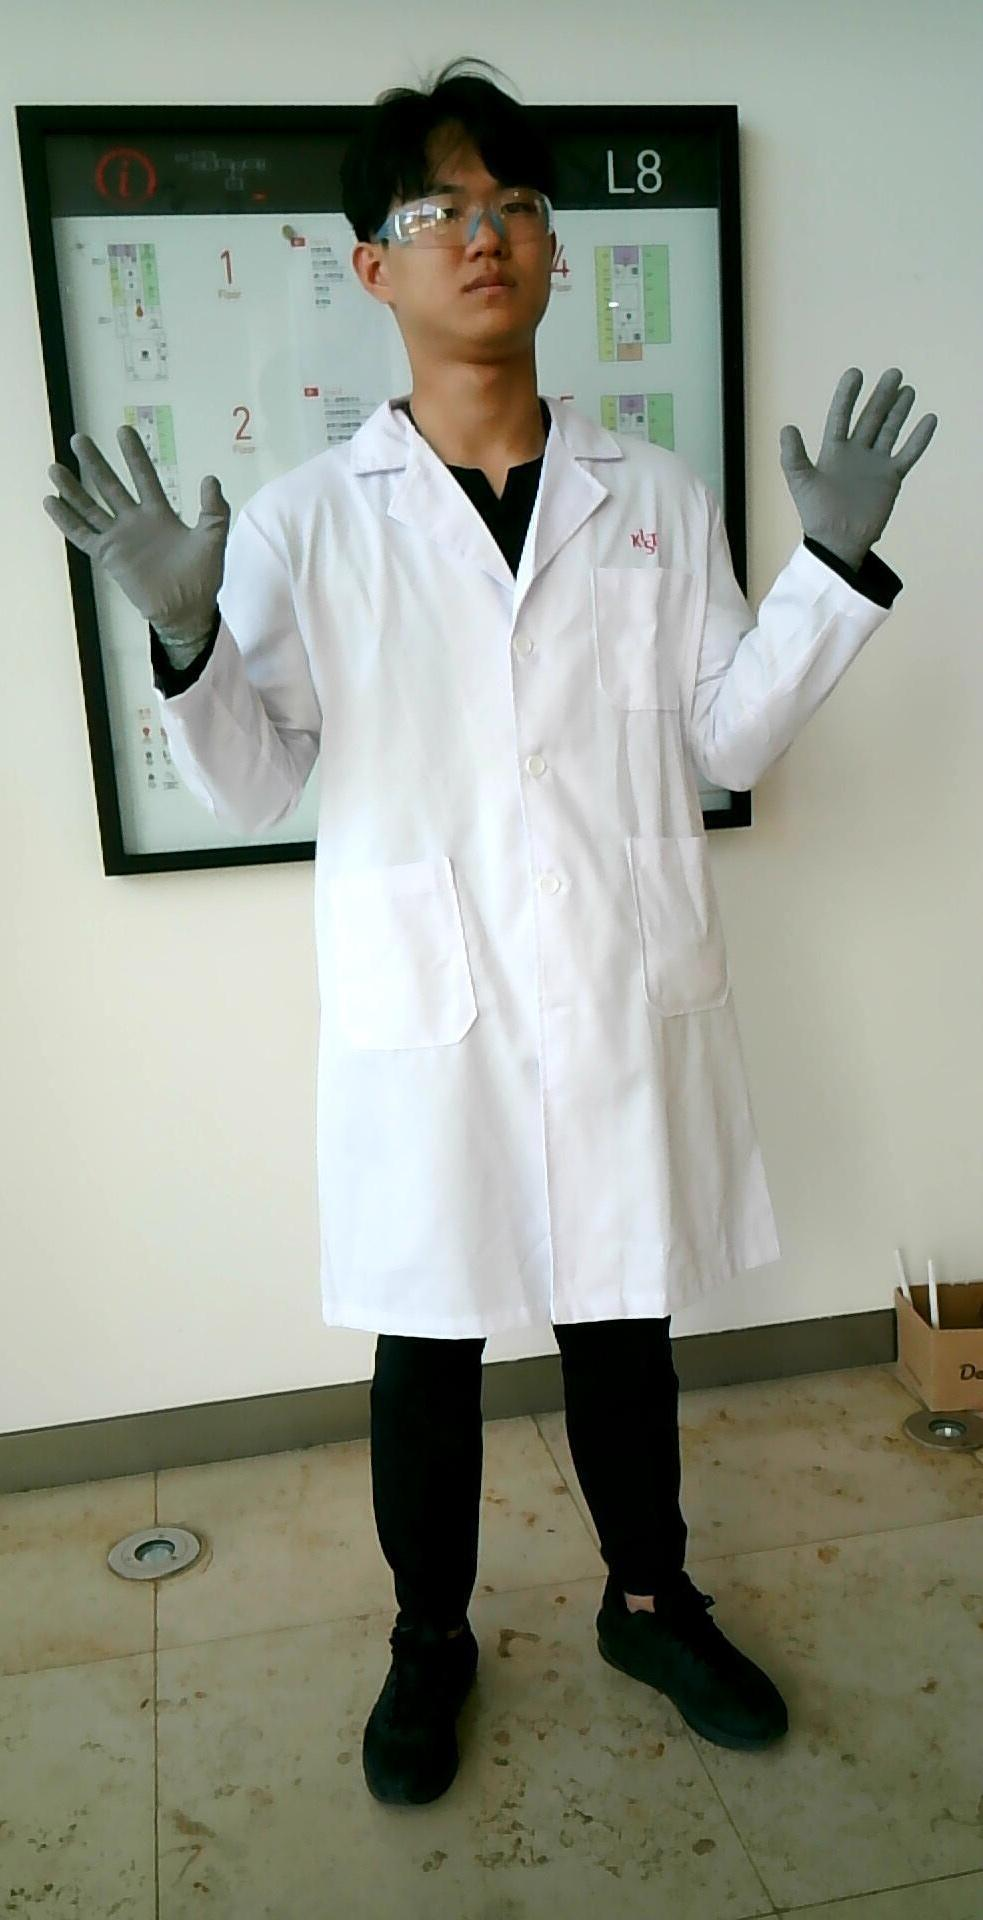lab_coat: (295, 459, 702, 1333)
